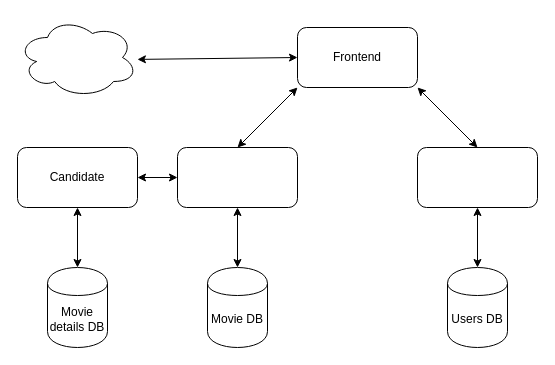
Image size: 555x365. Some labels were removed from this diagram. The box of each missing label's shape, as (x1, y1, x2, y2) in pixels:
AWS: (16, 16, 138, 98)
Quiz: (176, 146, 298, 208)
User: (416, 146, 538, 208)
